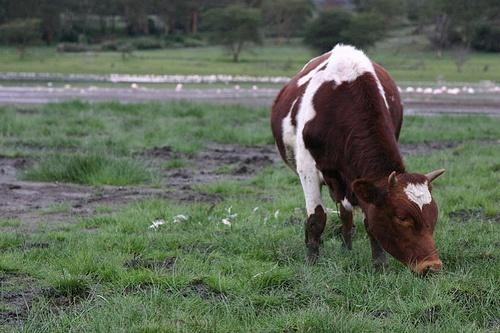cow: (271, 43, 444, 279)
